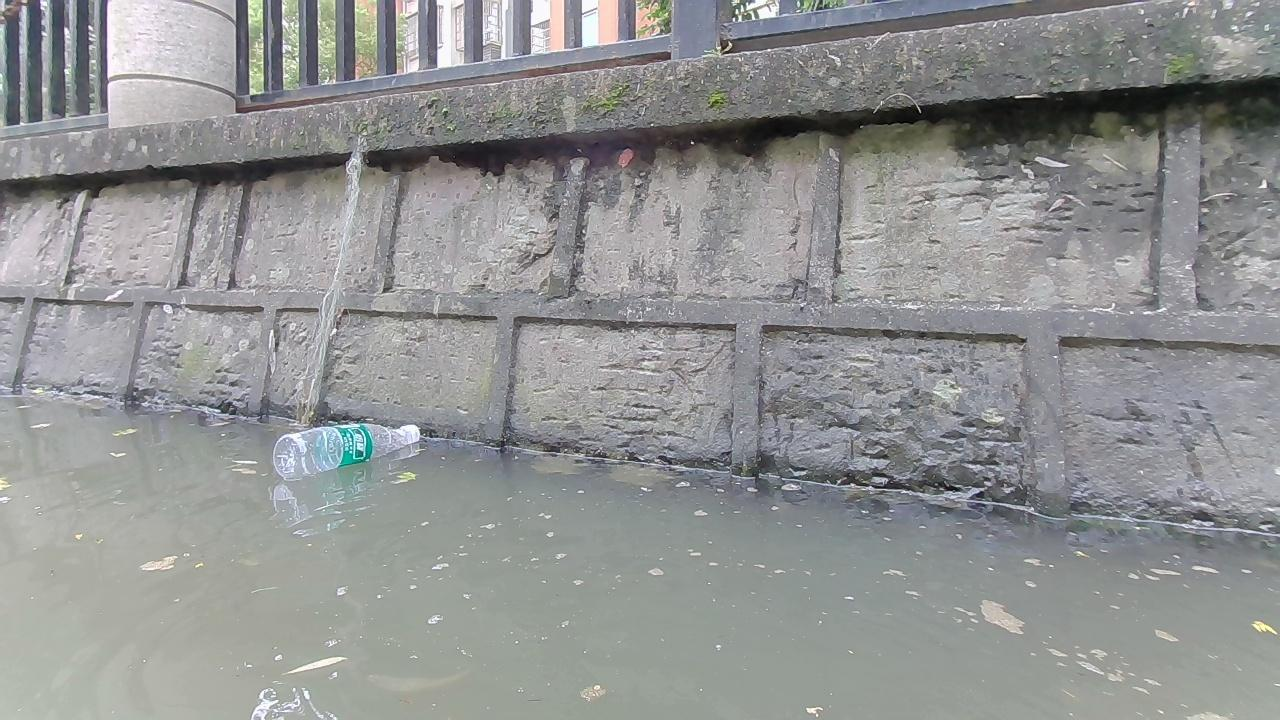bottle: (271, 421, 421, 478)
